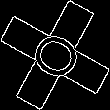O_SE: (22, 24, 88, 86)
